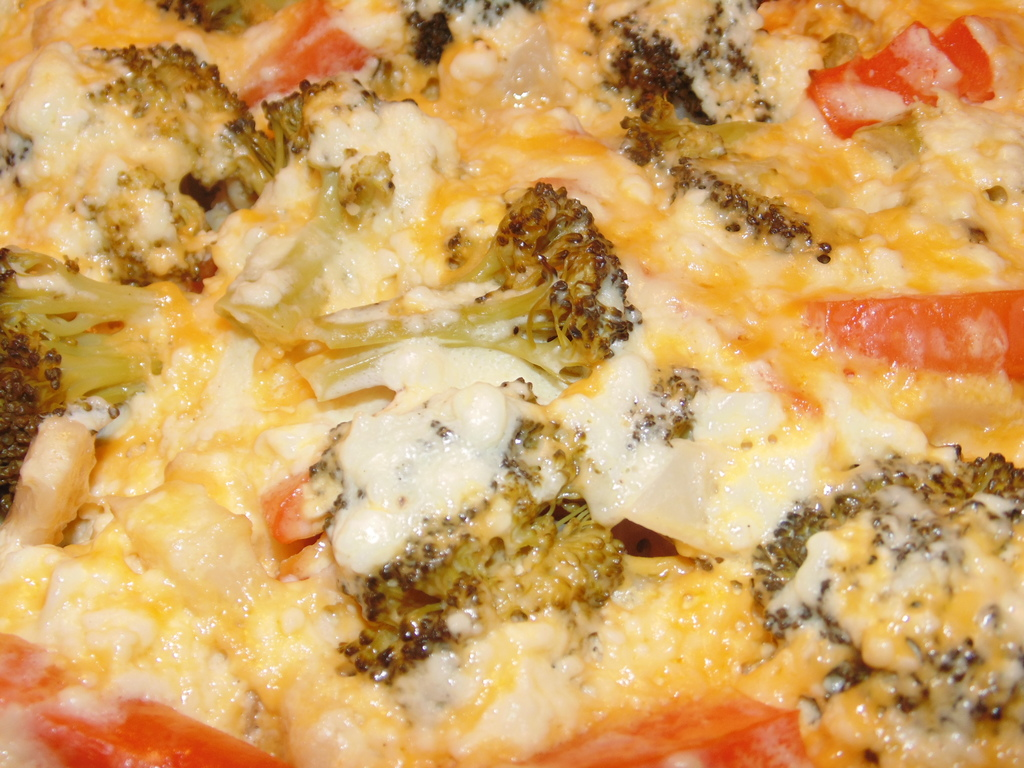Pizza: (0, 0, 1024, 759)
